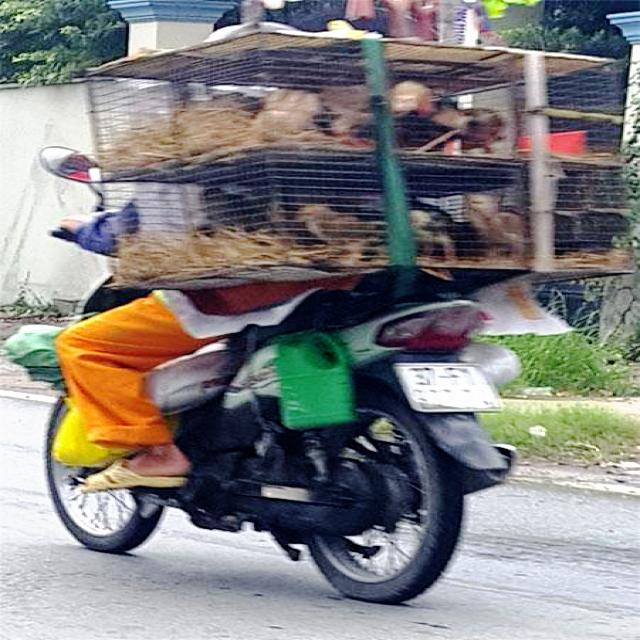license_plate: (397, 362, 502, 412)
